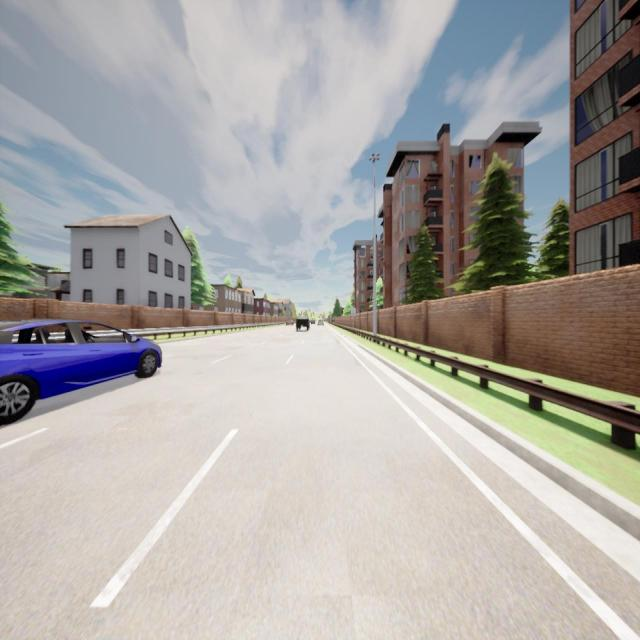Traffic_Signs: (352, 308, 356, 316)
Vehicle: (0, 319, 162, 424), (295, 316, 310, 331), (285, 318, 294, 326), (310, 318, 316, 325), (318, 319, 324, 326)
